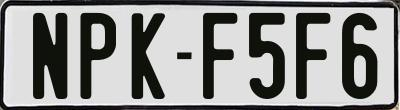5: (246, 11, 282, 103)
6: (341, 12, 379, 98)
F: (202, 13, 238, 105), (293, 12, 328, 101)
K: (130, 11, 168, 103)
N: (33, 12, 71, 101)
P: (77, 12, 114, 98)
